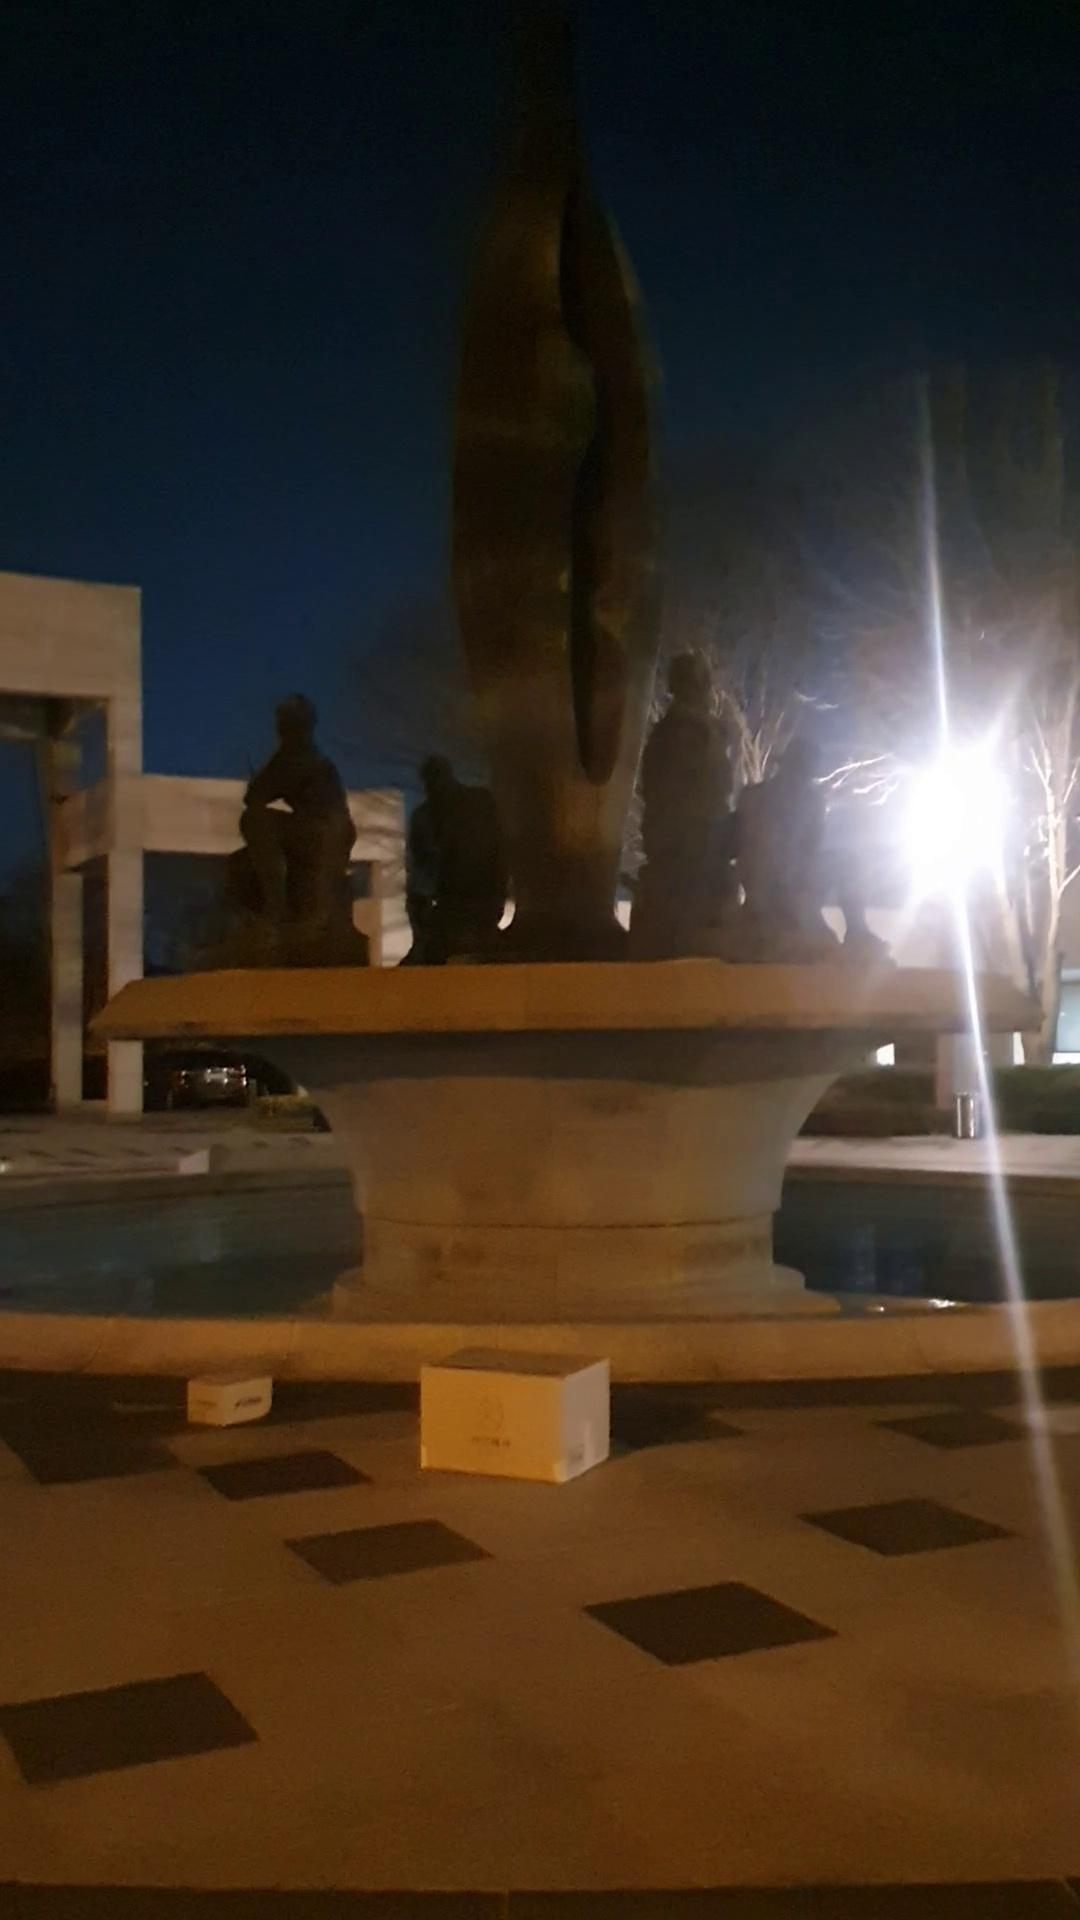Box: (401, 1342, 625, 1484), (178, 1364, 287, 1433)
